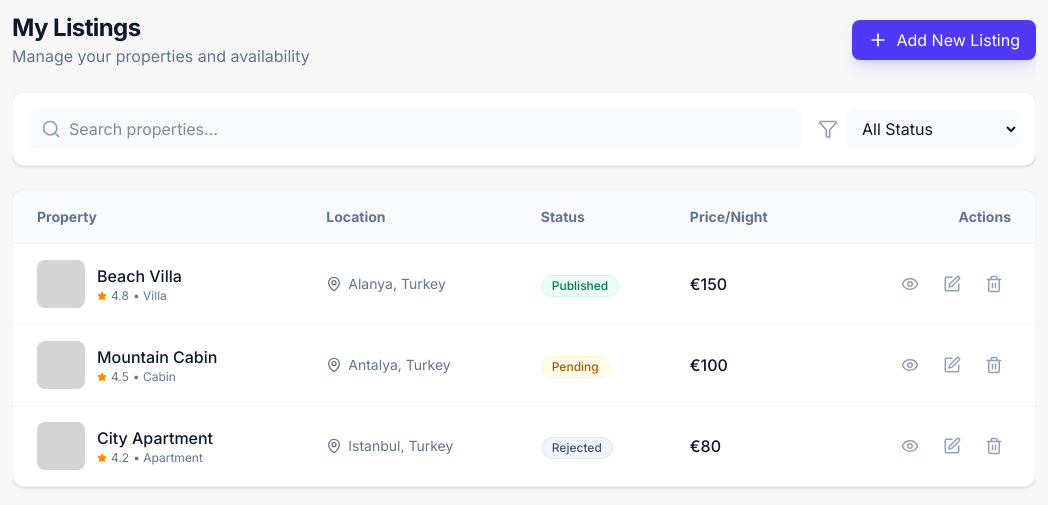
it: HostPropertiesPage › allows searching by property title
The width and height of the screenshot is (1048, 505).
Expected: the text "Beach Villa" is shown, [97,264,182,288]
Type "Beach" into the field with placeholder "Search properties..." at (416, 129), box [29,109,802,149]
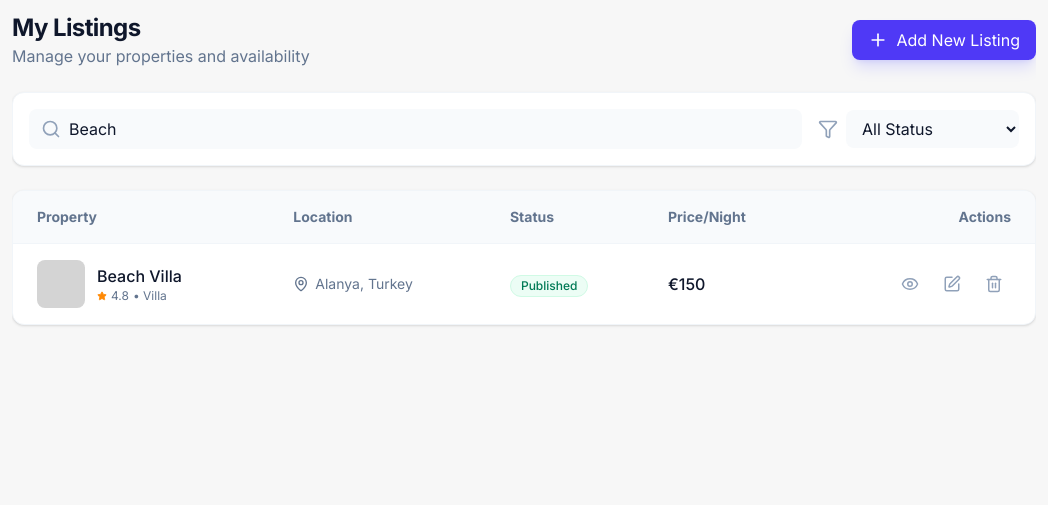
Expected: the text "Beach Villa" is shown, [97,264,182,288]
Now the text "Mountain Cabin" is gone
Now the text "City Apartment" is gone
